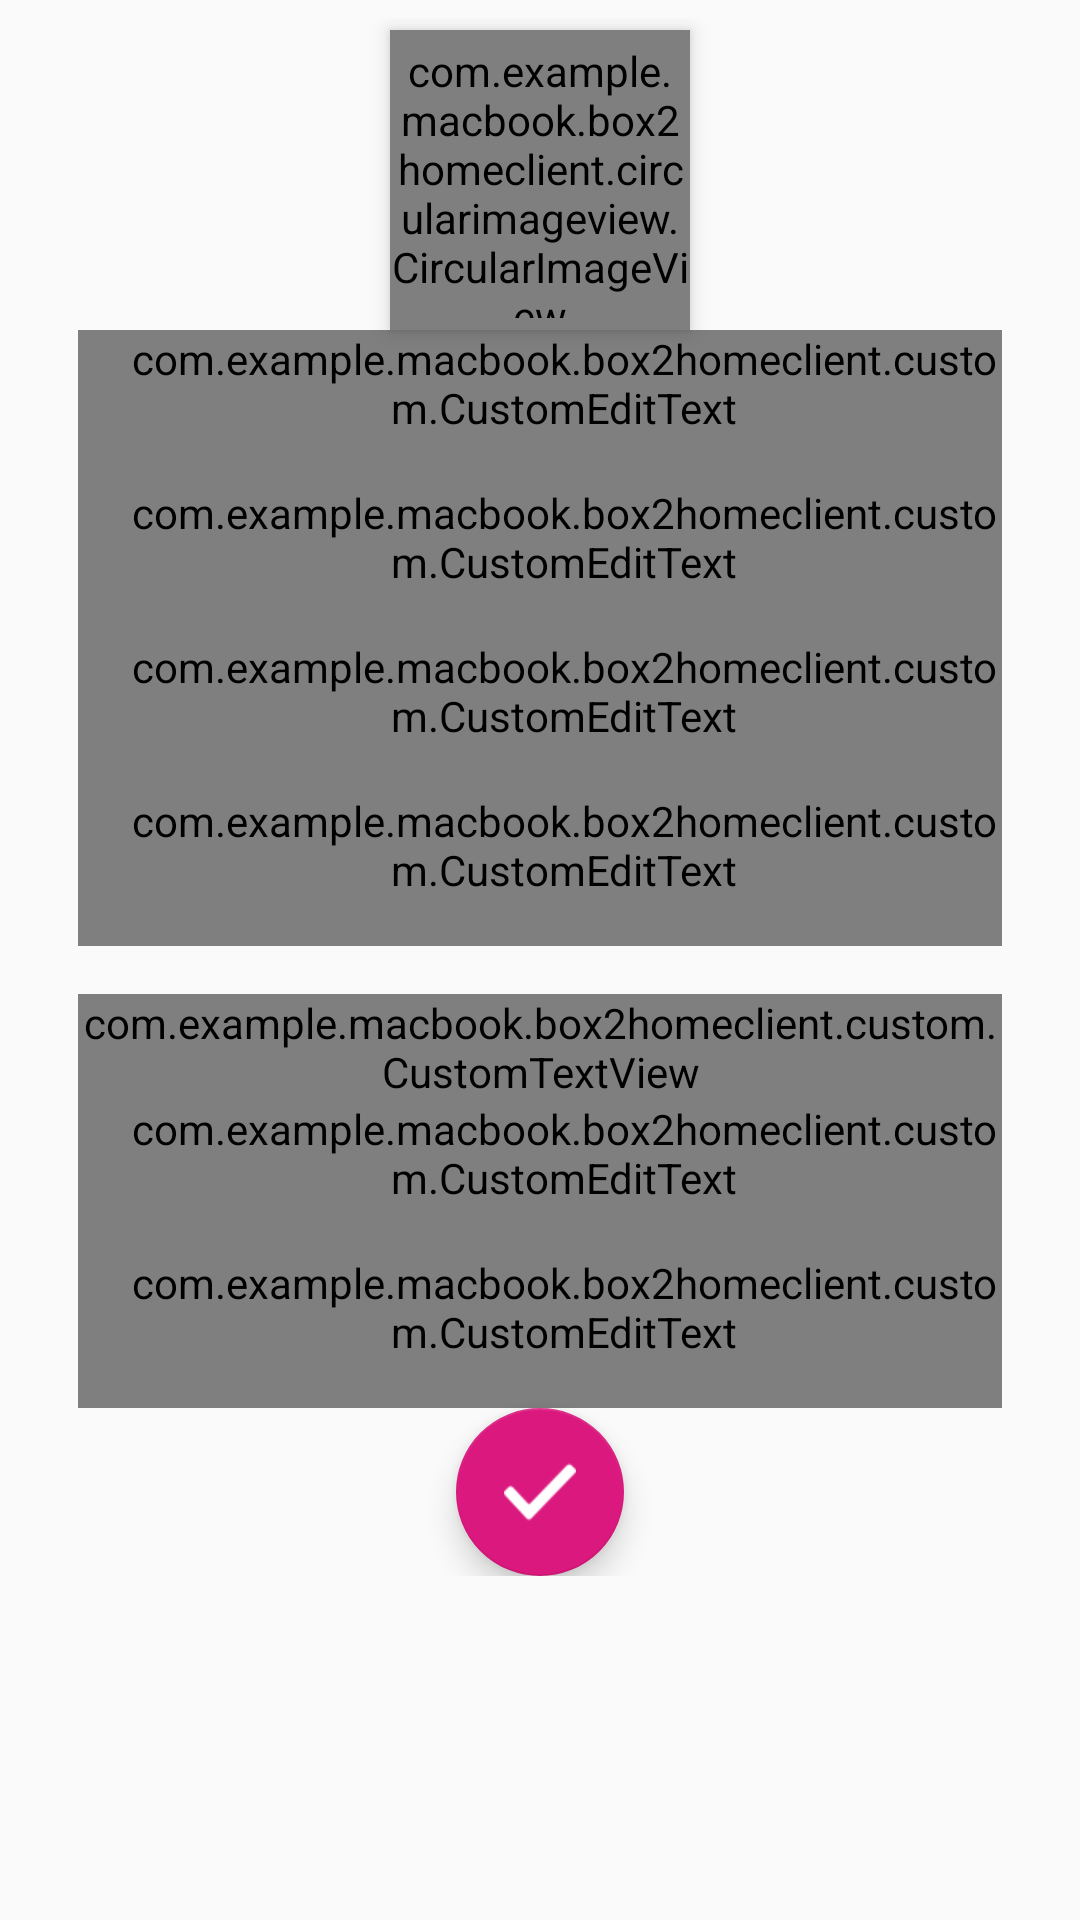

Icon click points for this 1080px×1920px phone screenshot, format (x=x, y=y):
checked: (x=540, y=1492)
